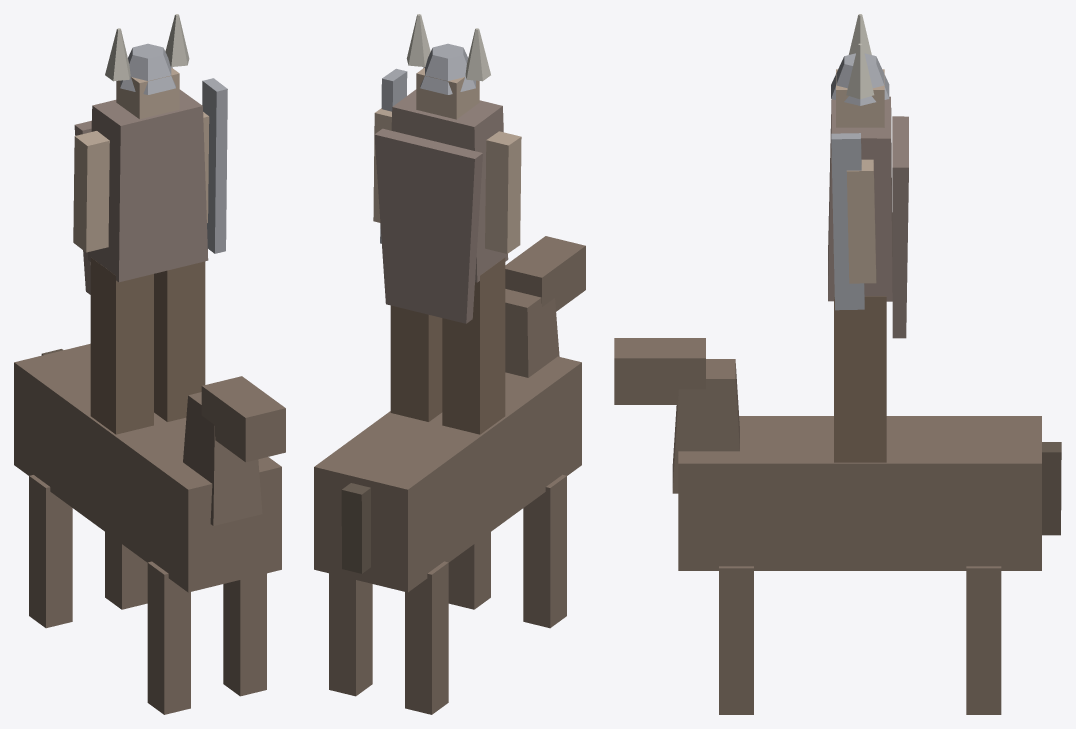
Rendered from cavalry.glb.
The picture shows the model from 3 angles, left to right: view 1: azimuth 30°, elevation 25°; view 2: azimuth 150°, elevation 25°; view 3: azimuth 270°, elevation 25°; orthographic projection. The views are drawn at different scales.
Visible parts, largest first — view 1: cavalry; view 2: cavalry; view 3: cavalry.
Part boxes in pixels (x1=…): cavalry: x1=14, y1=14, x2=285, y2=714; cavalry: x1=314, y1=14, x2=585, y2=714; cavalry: x1=614, y1=14, x2=1061, y2=714.
Bounding box in the file's own units: 0.6 × 2.7 × 1.66.
